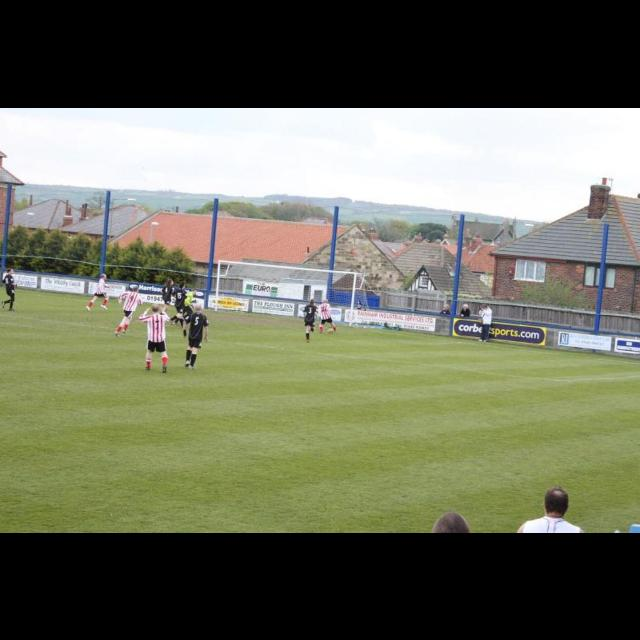Football: (326, 327, 332, 331)
